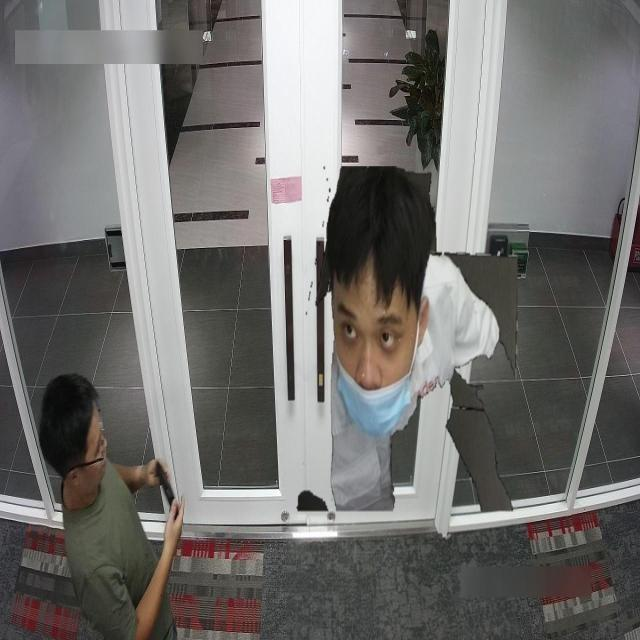hairnet: (331, 290, 414, 434)
